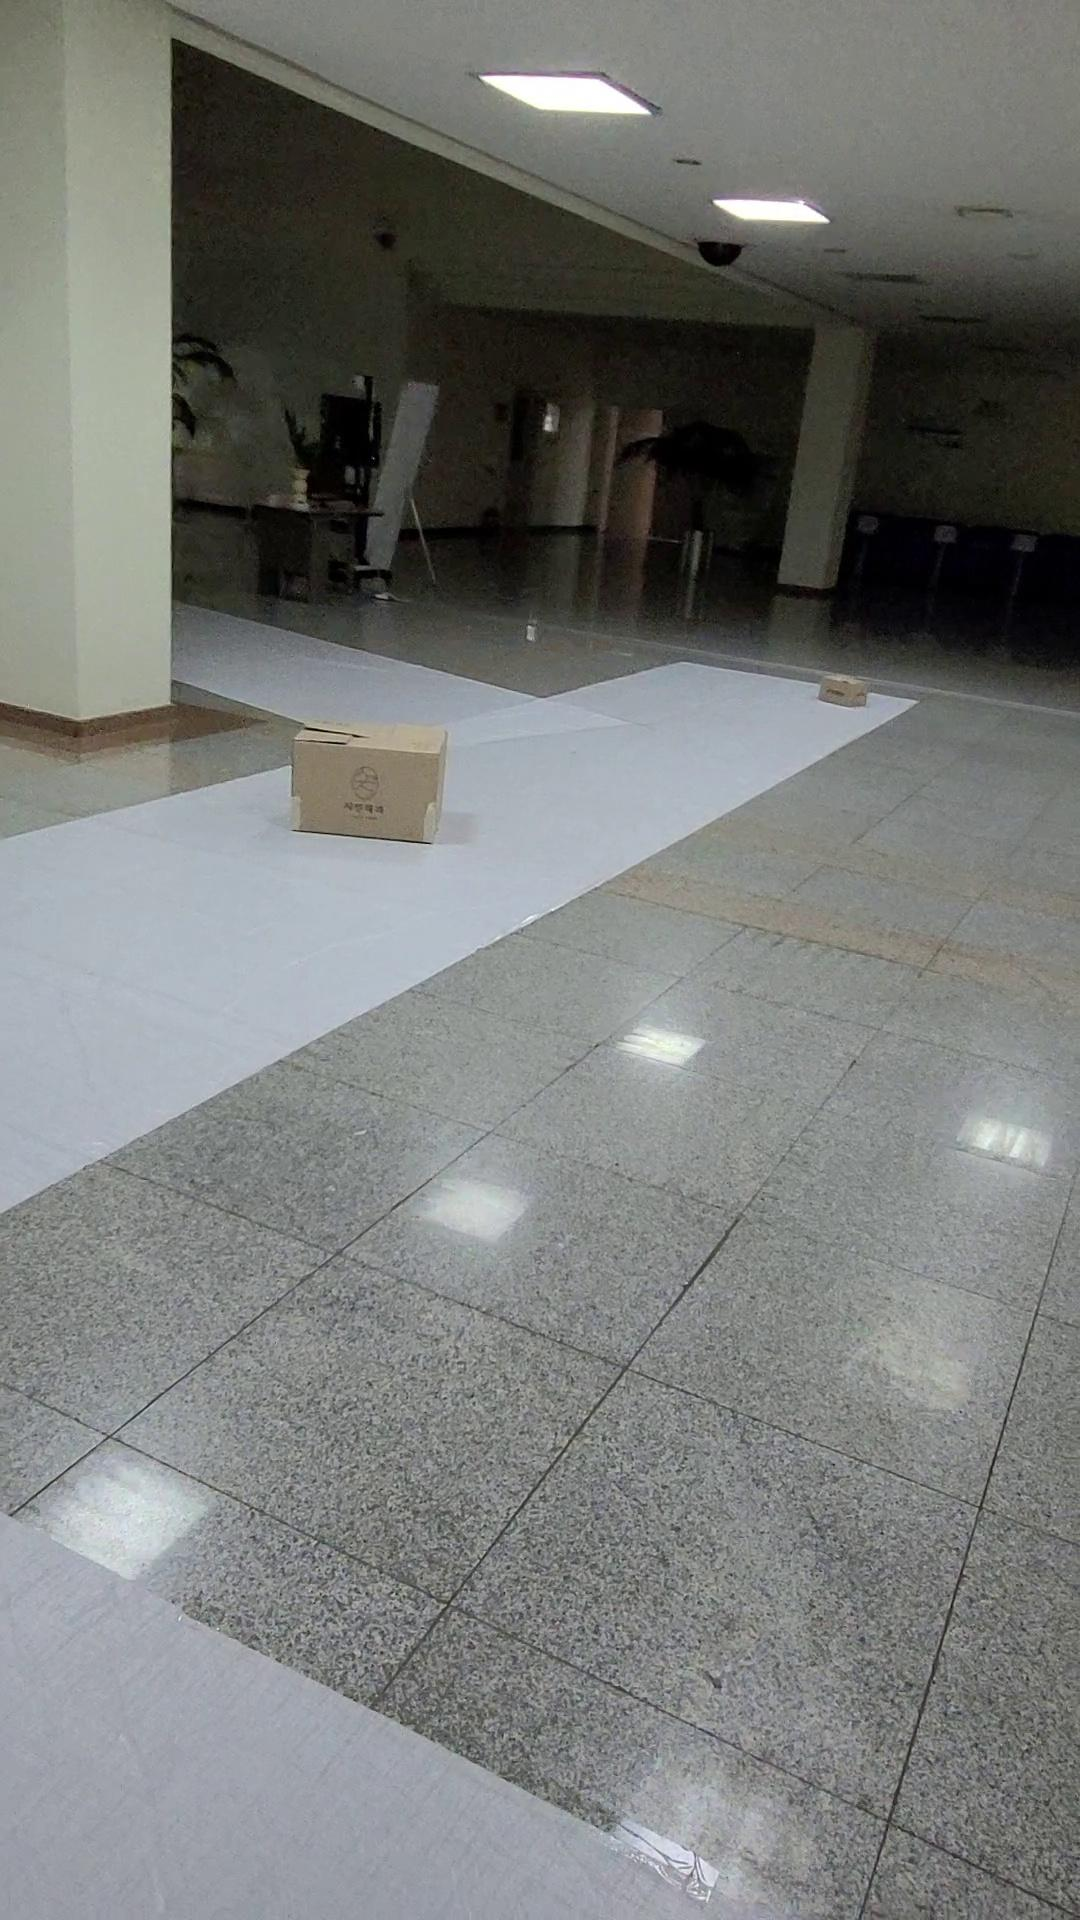Box: (281, 690, 473, 885)
